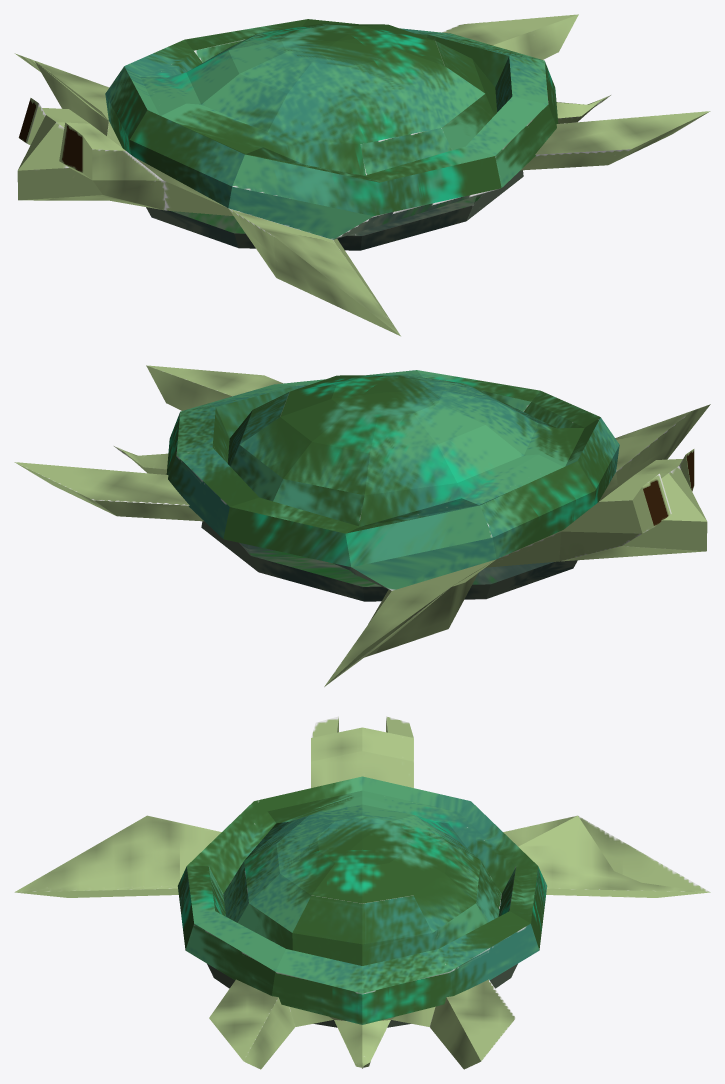
The model's file is turtle.fbx.
3 renders of one model, top to bottom at view 1: azimuth 30°, elevation 25°; view 2: azimuth 150°, elevation 25°; view 3: azimuth 270°, elevation 25°, orthographic. The views are drawn at different scales.
Visible parts, largest first — view 1: pSphere1; view 2: pSphere1; view 3: pSphere1.
Part boxes in pixels (x1,y1,x2,y2): pSphere1: (14, 14, 710, 336); pSphere1: (14, 365, 710, 686); pSphere1: (14, 716, 710, 1069).
Bounding box in the file's own units: 3.75 × 0.9119 × 4.01.
